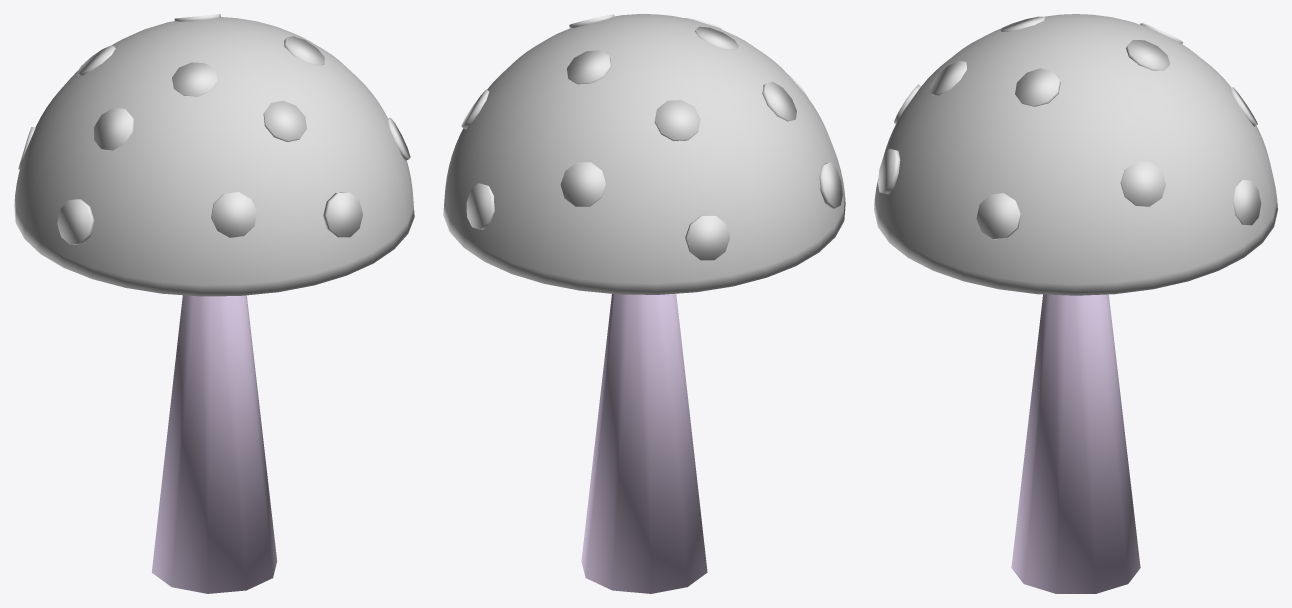
Rendered from muchomor_.fbx.
3 renders of one model, left to right at view 1: azimuth 30°, elevation 25°; view 2: azimuth 150°, elevation 25°; view 3: azimuth 270°, elevation 25°, orthographic.
Visible parts, largest first — view 1: Kula, Walec, Walec.001; view 2: Kula, Walec, Walec.001; view 3: Kula, Walec, Walec.001.
Boxes of the visible parts, x1,y1,x2,y2 form: Kula: (14, 17, 414, 296); Walec: (151, 295, 277, 593); Walec.001: (18, 14, 410, 244); Kula: (443, 14, 845, 294); Walec: (581, 293, 707, 593); Walec.001: (461, 14, 842, 260); Kula: (874, 14, 1277, 295); Walec: (1011, 294, 1140, 593); Walec.001: (878, 16, 1261, 239).
Size of the model in its own units: 244 by 356 by 244.
